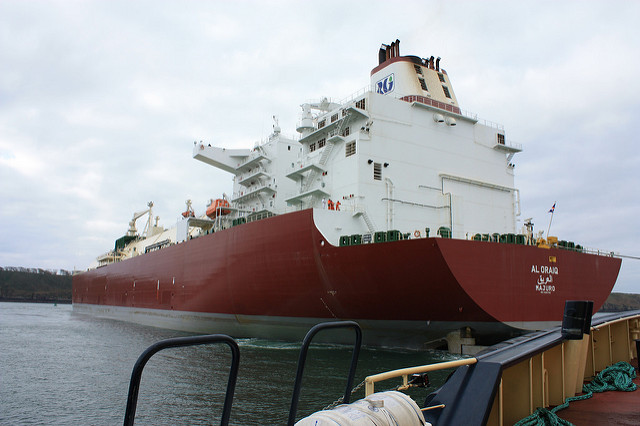LNG_ship: (68, 38, 617, 328)
